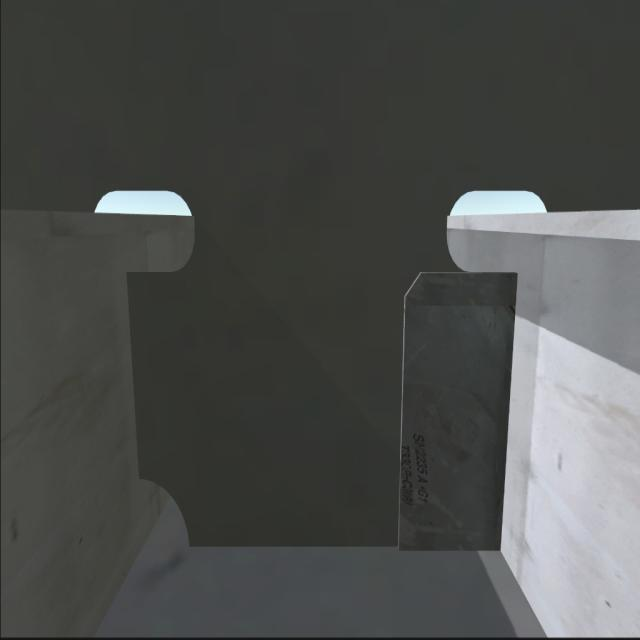fillet_hole: (140, 481, 194, 550)
fillet_yong_jeop_jang: (188, 531, 508, 559)
longi_yong_jeop_jang: (122, 271, 152, 486), (498, 262, 518, 552)
plate_CP03: (400, 268, 505, 550)
